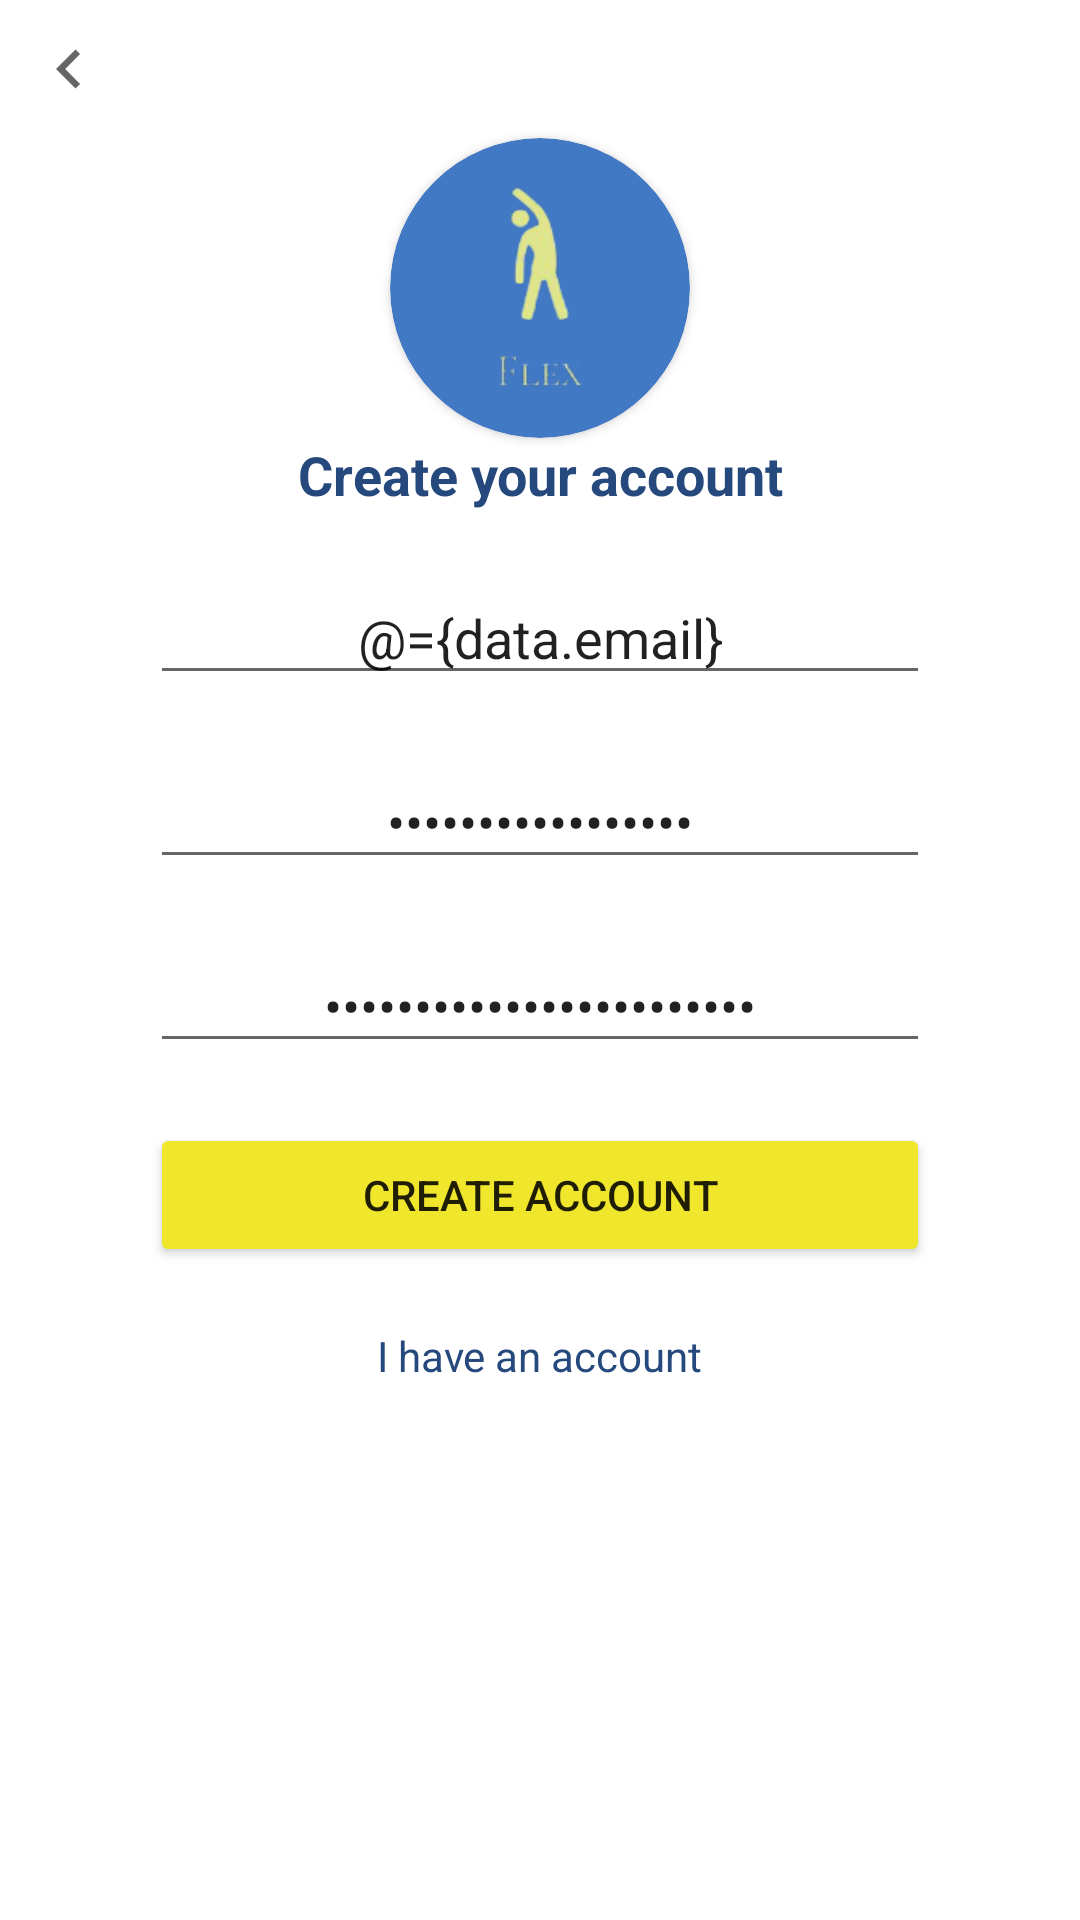

Icon bounding boxes for this 1080 x 1920 phone screenshot, format [x1, y1, x2, y2]:
keyboard arrow left: [56, 49, 80, 89]
